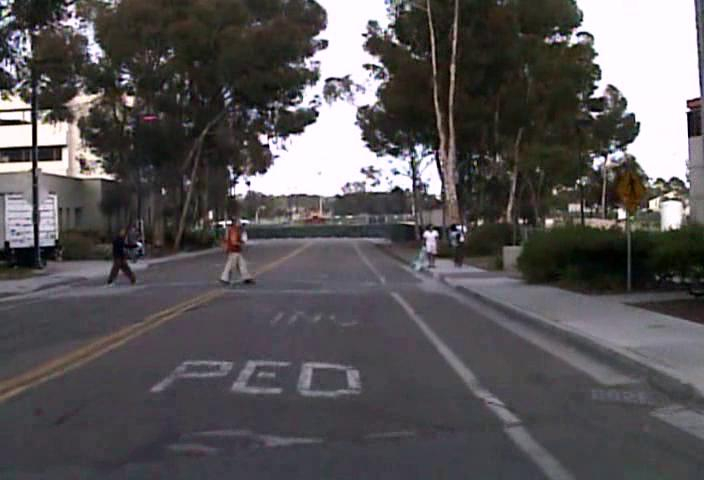pedestrianCrossing: (614, 166, 648, 210)
